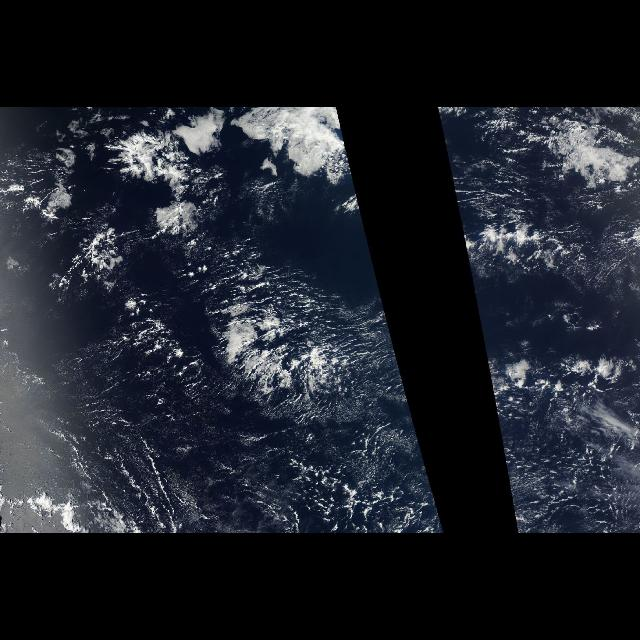Fish: (458, 212, 618, 288)
Gravel: (215, 442, 427, 530)
Sugar: (112, 283, 378, 425)
